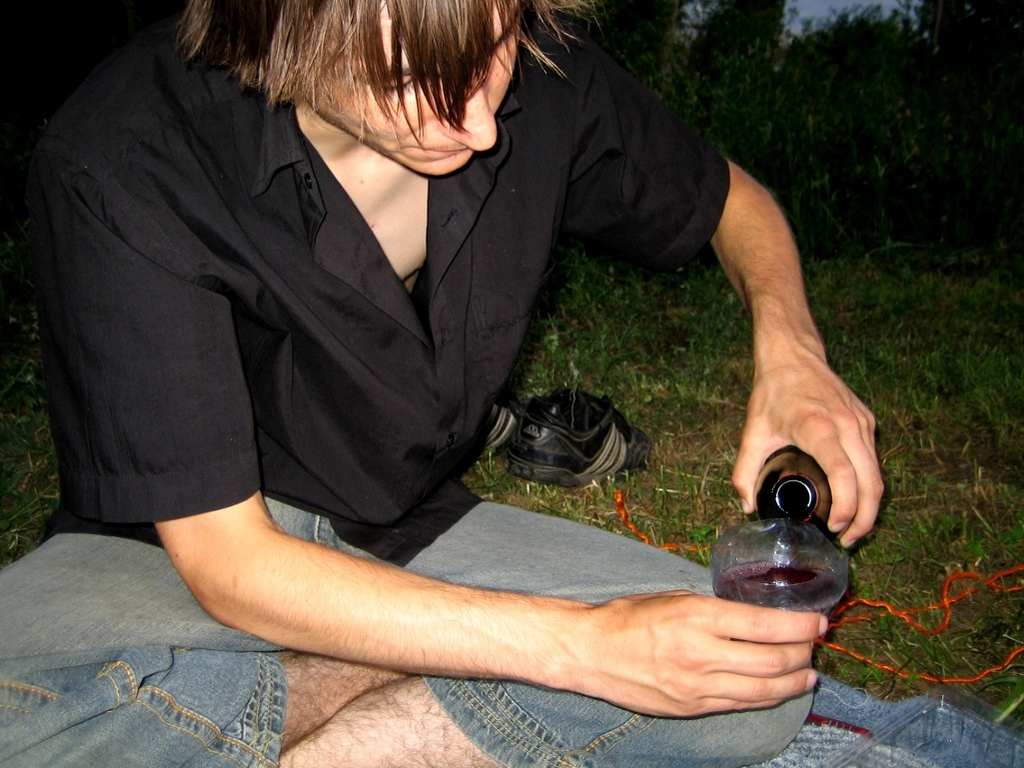Human_hand: (728, 348, 887, 553), (599, 587, 829, 718)
